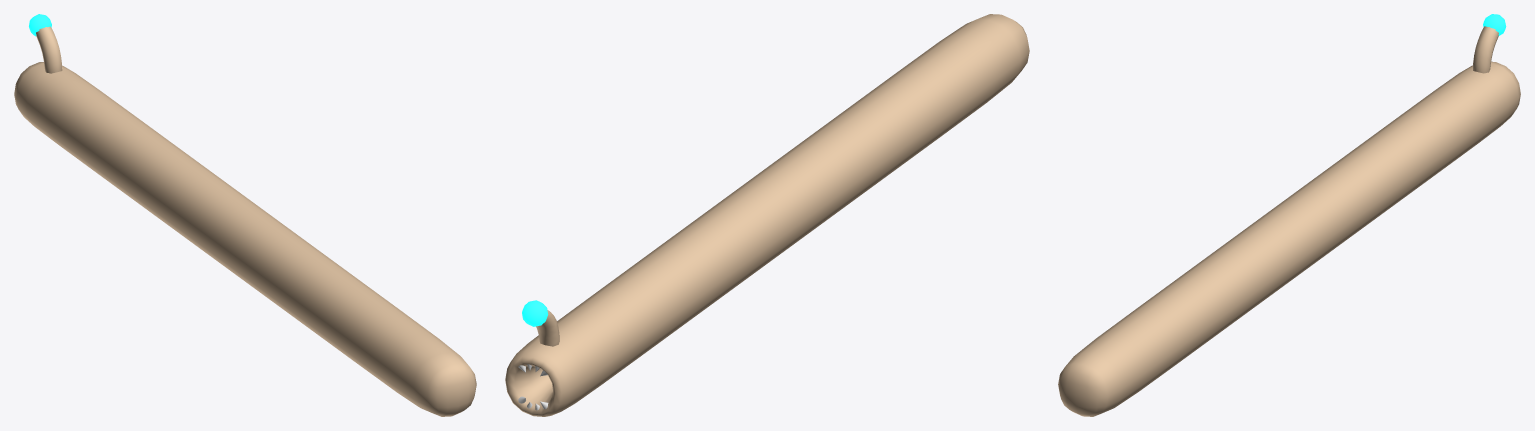
The model's file is WormEnemy.fbx.
The picture shows the model from 3 angles, left to right: view 1: azimuth 30°, elevation 25°; view 2: azimuth 150°, elevation 25°; view 3: azimuth 330°, elevation 25°; orthographic projection. The views are drawn at different scales.
Parts seen in each view (by area): view 1: Cube.005, Cube.006; view 2: Cube.005, Cube.006, Icosphere; view 3: Cube.005, Cube.006.
Part boxes in pixels (bbox=[...]): Cube.005: bbox=[14, 62, 476, 416]; Cube.006: bbox=[36, 26, 62, 73]; Cube.005: bbox=[505, 14, 1029, 416]; Cube.006: bbox=[536, 310, 559, 346]; Icosphere: bbox=[522, 300, 548, 326]; Cube.005: bbox=[1058, 61, 1520, 416]; Cube.006: bbox=[1473, 26, 1498, 73].
Size of the model in its own units: 67.23 by 116 by 855.
